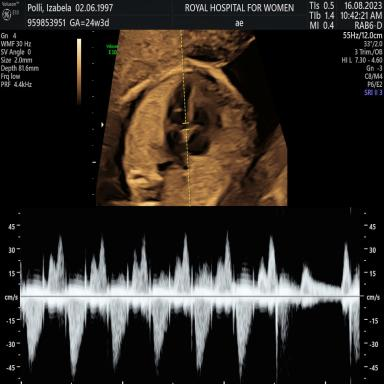Ultrasound-Waves: (24, 216, 360, 384)
